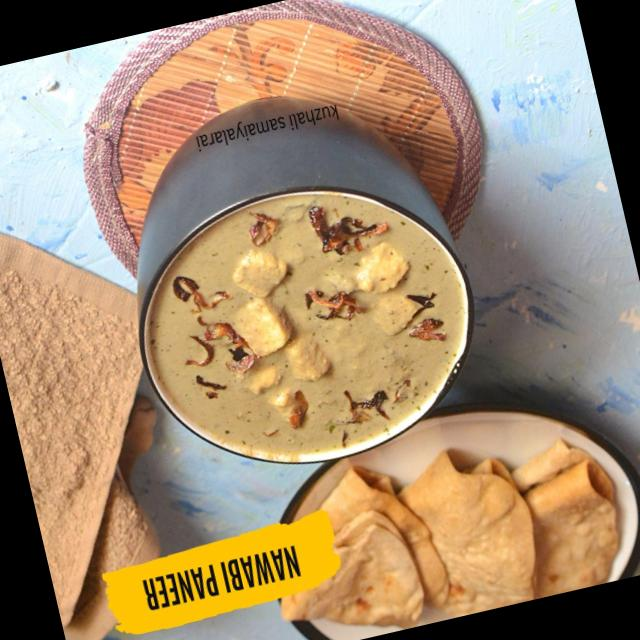roti: (410, 446, 620, 614)
